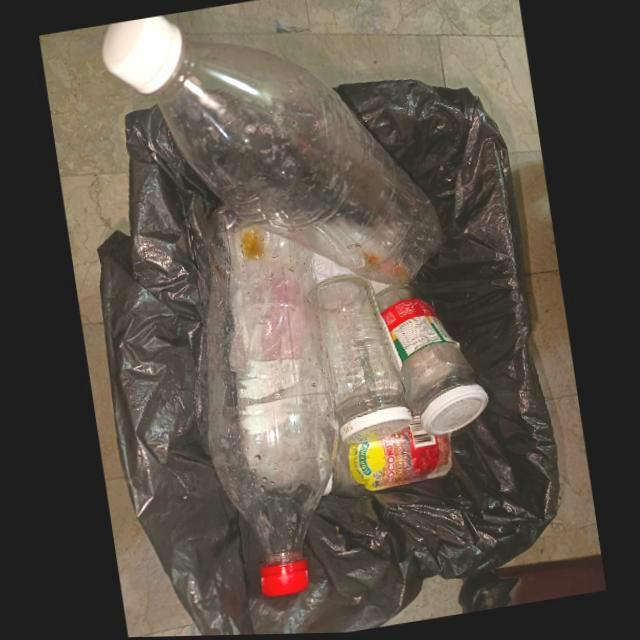glass_bottle: (374, 287, 488, 438), (317, 276, 413, 446), (322, 415, 453, 498)
plastic_bottle: (101, 17, 442, 288), (204, 204, 339, 598)
